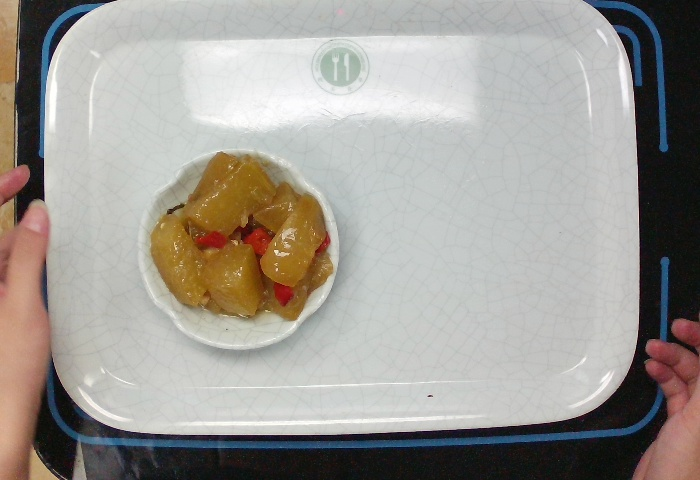JYsf-Ao_Yuan_Wan: (133, 144, 342, 353)
